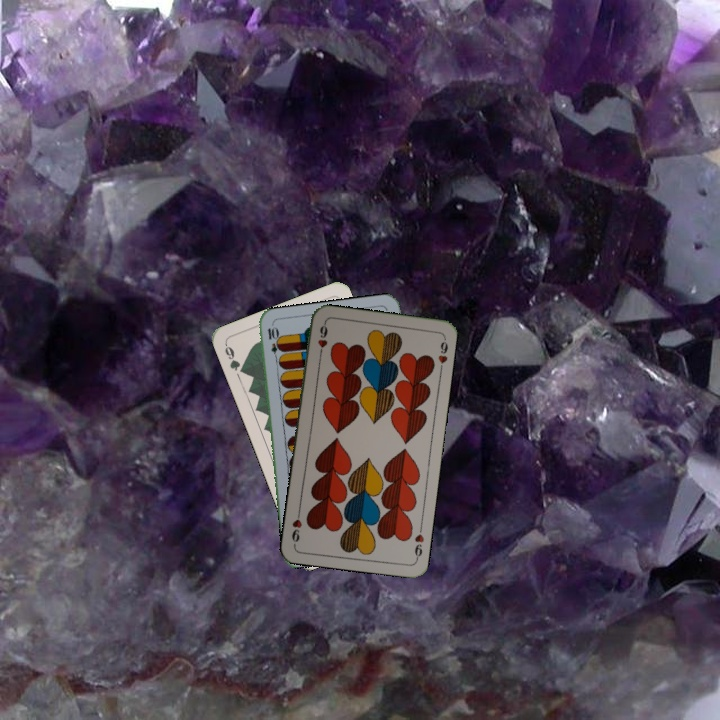E10: (263, 323, 281, 364)
G9: (221, 340, 248, 376)
H9: (410, 522, 427, 562), (314, 320, 330, 360)
